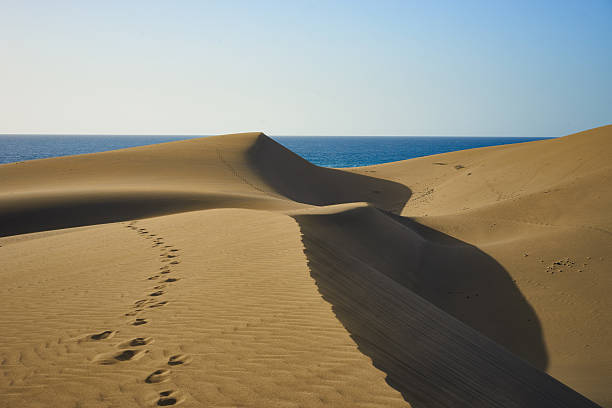human_footprint: (94, 349, 147, 364), (162, 270, 180, 294), (118, 337, 154, 348), (156, 390, 181, 405), (145, 369, 170, 383), (167, 354, 191, 365), (88, 330, 116, 339), (162, 244, 180, 256), (160, 257, 179, 267), (150, 294, 165, 306), (132, 318, 147, 325)
